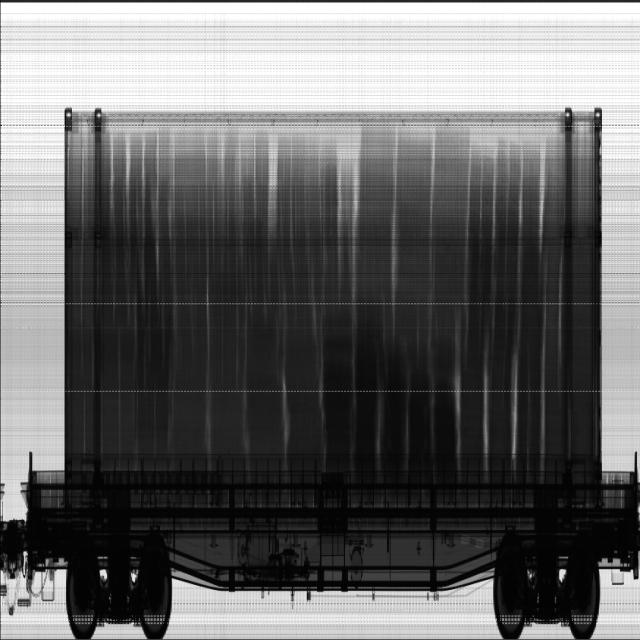clothes: (110, 111, 432, 453)
textile: (319, 302, 461, 478)
